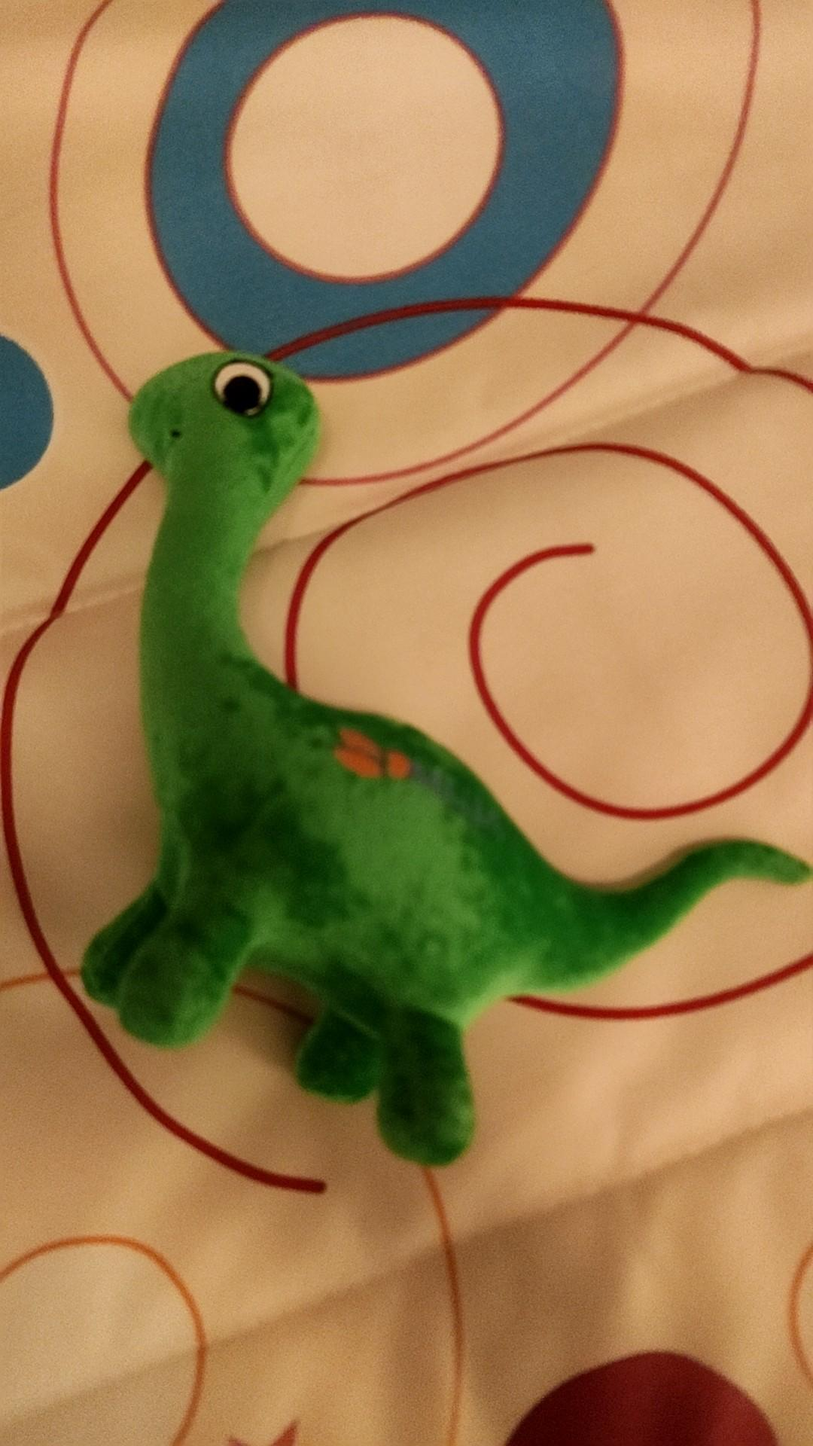toy: (81, 352, 812, 1164)
